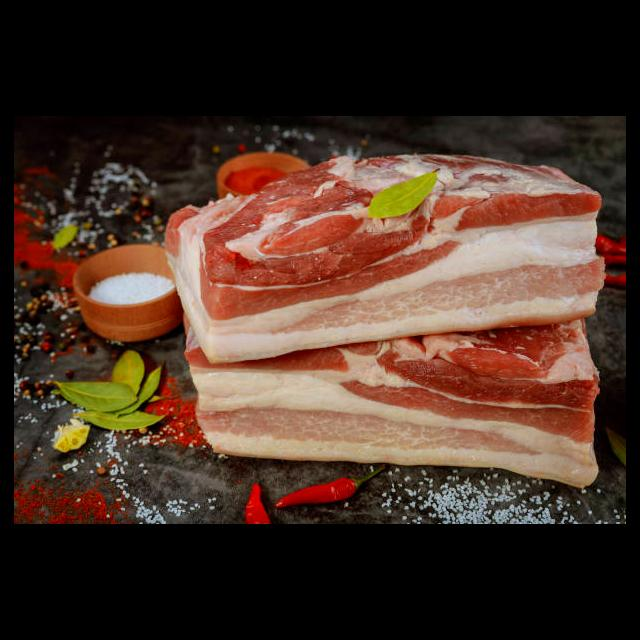pork: (177, 153, 604, 345), (186, 330, 616, 485)
